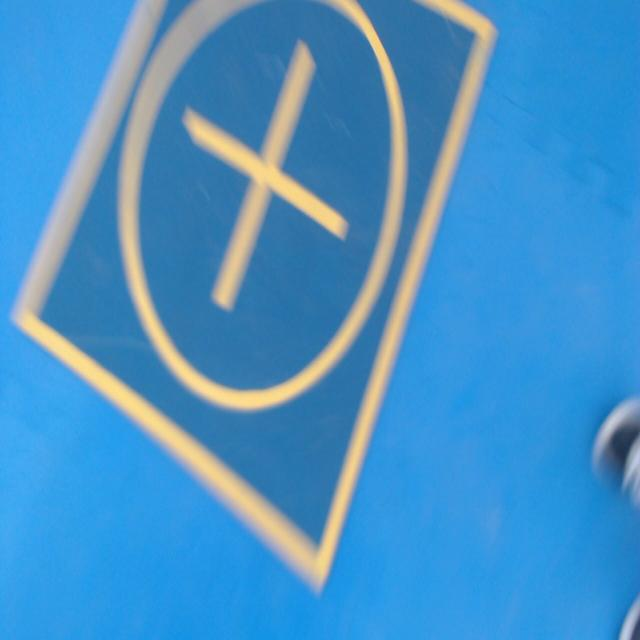base_pouso: (7, 0, 501, 597)
